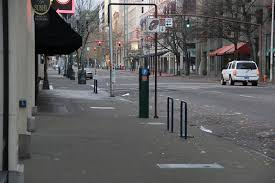car: (220, 58, 259, 87)
